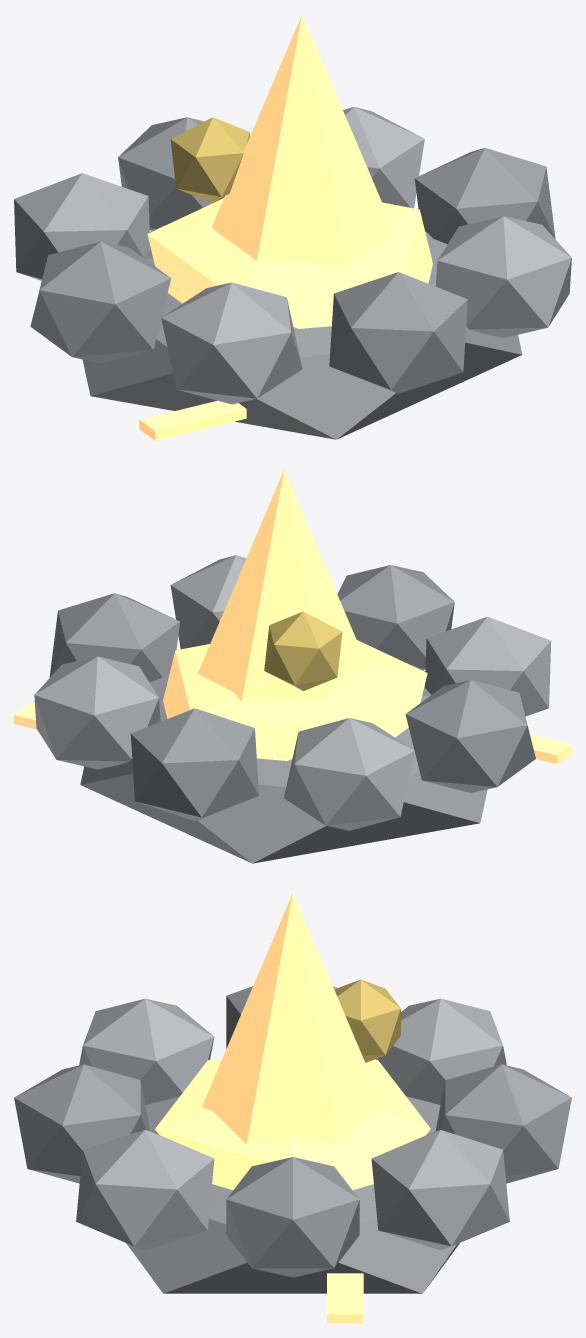
File: lava_vent.glb
3 renders of one model, top to bottom at view 1: azimuth 30°, elevation 25°; view 2: azimuth 150°, elevation 25°; view 3: azimuth 270°, elevation 25°, orthographic. The views are drawn at different scales.
Visible parts, largest first — view 1: flame, mouth, pool, rim_6, rim_5, rim_4, rim_7, rim_3, rim_0, rim_2, rim_1, ember (+1 smaller); view 2: flame, mouth, pool, rim_2, rim_3, rim_4, rim_1, rim_5, rim_6, rim_0, ember, rim_7 (+1 smaller); view 3: flame, mouth, rim_1, rim_7, rim_0, pool, rim_2, rim_6, rim_5, rim_3, ember, crack_a (+1 smaller).
Part boxes in pixels (left/top/right/bottom): flame: left=211, top=14, right=395, bottom=264; mouth: left=82, top=225, right=522, bottom=439; pool: left=147, top=198, right=432, bottom=328; rim_6: left=329, top=272, right=467, bottom=393; rim_5: left=161, top=282, right=302, bottom=404; rim_4: left=30, top=241, right=171, bottom=363; rim_7: left=435, top=216, right=571, bottom=337; rim_3: left=14, top=173, right=150, bottom=280; rim_0: left=414, top=148, right=555, bottom=243; rim_2: left=118, top=117, right=223, bottom=230; rim_1: left=343, top=107, right=424, bottom=208; ember: left=170, top=117, right=250, bottom=203; flame: left=197, top=469, right=367, bottom=701; mouth: left=80, top=665, right=487, bottom=863; pool: left=163, top=640, right=427, bottom=760; rim_2: left=130, top=708, right=258, bottom=820; rim_3: left=284, top=718, right=414, bottom=830; rim_4: left=405, top=680, right=535, bottom=792; rim_1: left=34, top=656, right=160, bottom=769; rim_5: left=425, top=616, right=551, bottom=716; rim_6: left=337, top=565, right=454, bottom=669; rim_0: left=49, top=593, right=179, bottom=682; ember: left=264, top=611, right=342, bottom=690; rim_7: left=170, top=555, right=246, bottom=649; flame: left=202, top=893, right=383, bottom=1144; mouth: left=126, top=1096, right=459, bottom=1293; rim_1: left=371, top=1130, right=509, bottom=1250; rim_7: left=76, top=1130, right=214, bottom=1250; rim_0: left=226, top=1157, right=359, bottom=1277; pool: left=155, top=1060, right=430, bottom=1190; rim_2: left=435, top=1064, right=571, bottom=1183; rim_6: left=14, top=1064, right=150, bottom=1183; rim_5: left=79, top=998, right=214, bottom=1104; rim_3: left=375, top=998, right=506, bottom=1104; ember: left=334, top=979, right=400, bottom=1062; crack_a: left=327, top=1273, right=363, bottom=1323.
Bounding box in the file's own units: 1.13 × 0.7775 × 1.07.
